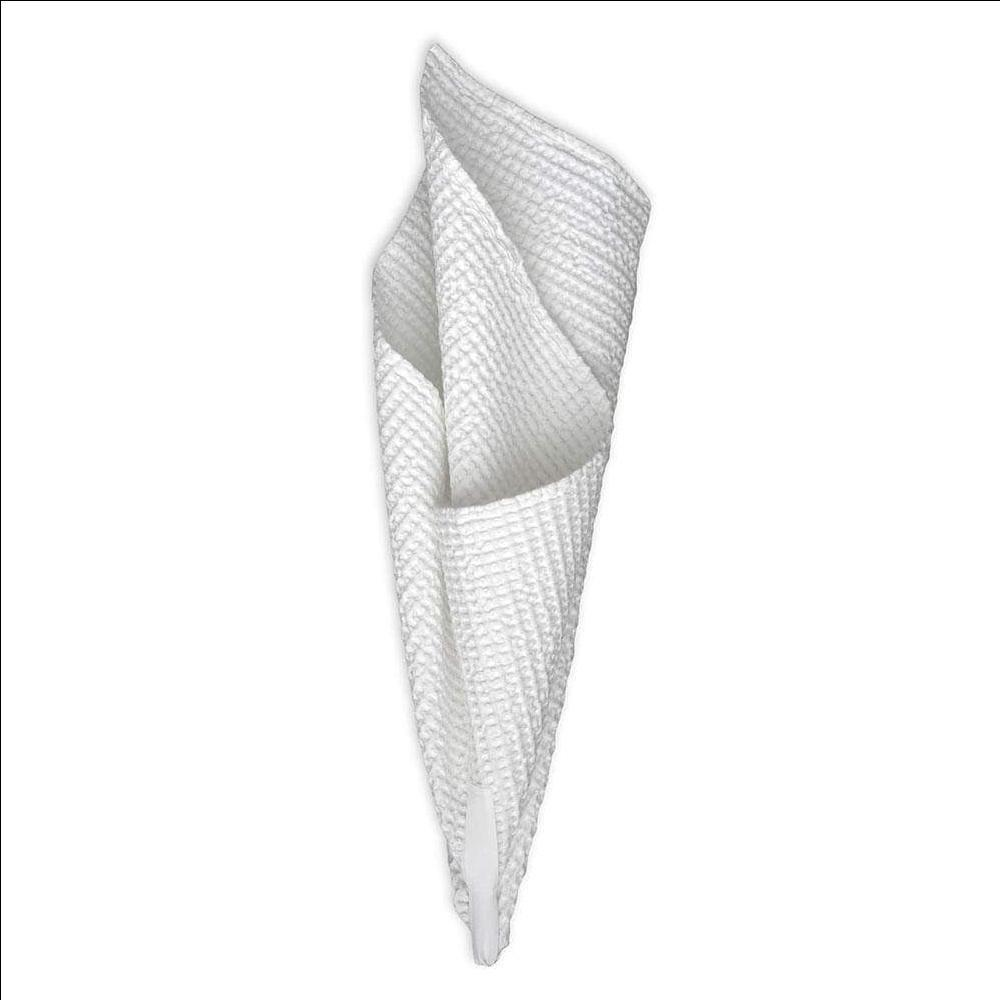towel: (278, 43, 685, 988)
